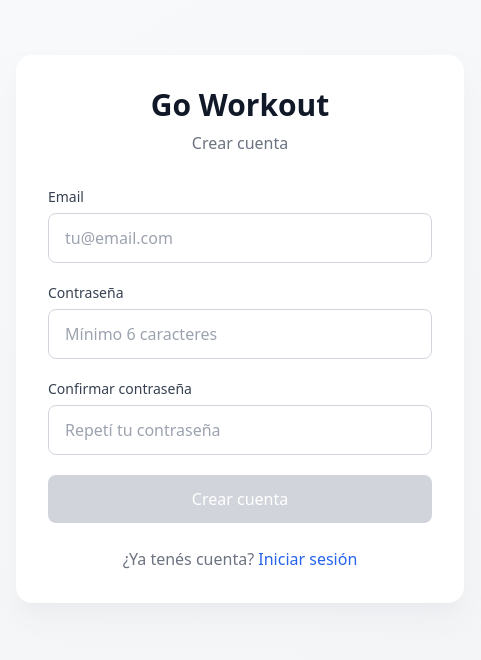
Test: RegistroPage › Manejo de errores › muestra error cuando el email ya está registrado
The width and height of the screenshot is (481, 660).
Type "existing@example.com" into the field labelled "Email" at (240, 238), box [48, 213, 432, 263]
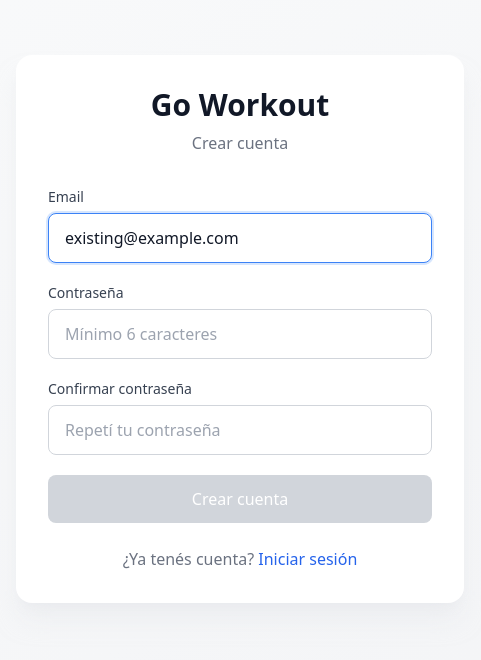
Type "password123" into the password field labelled "Contraseña" at (240, 334), box [48, 309, 432, 359]
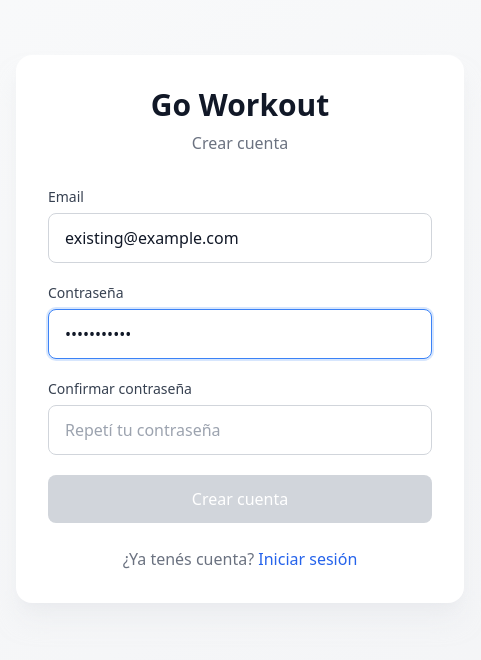
Type "password123" into the password field labelled "Confirmar contraseña" at (240, 430), box [48, 405, 432, 455]
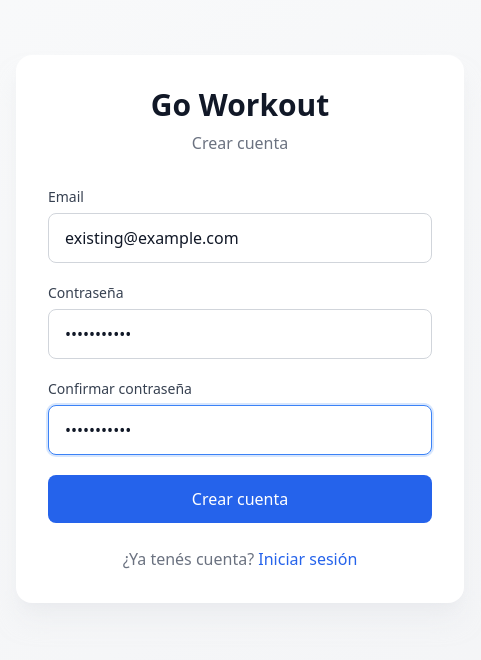
Click the button "Crear cuenta" at (240, 499), box [48, 475, 432, 523]
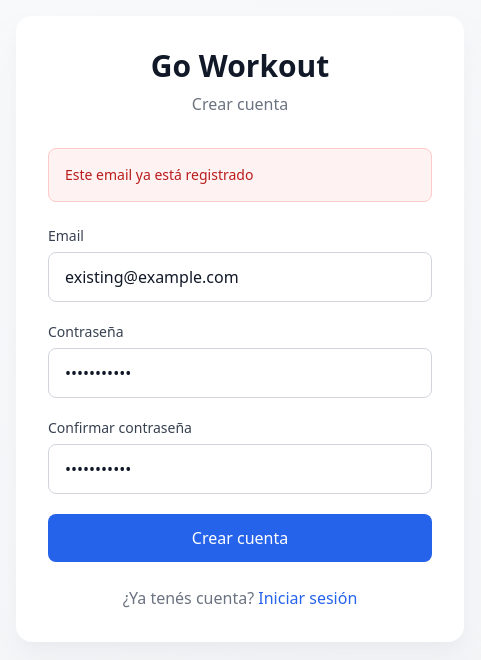
Now the text "Este email ya está registrado" is shown, box [48, 148, 432, 202]
